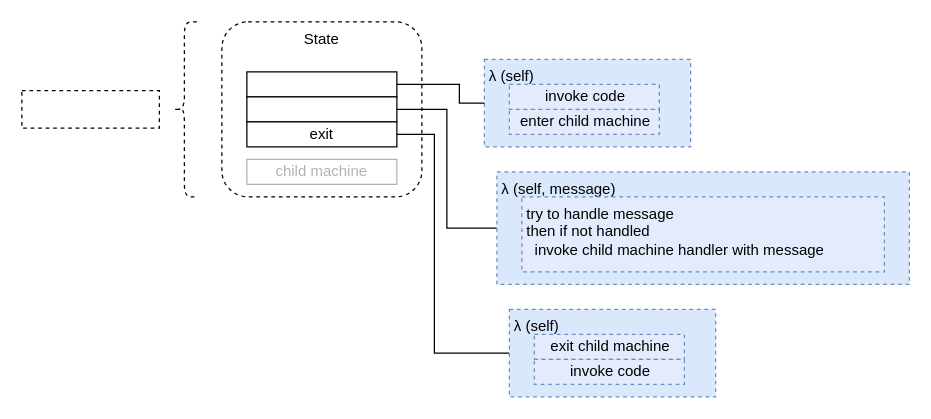
Some shapes in this 931 by 419 pixel diagram are drawn without their labels. The shapes that lost their labels are listed below. From the top down, each one's centre as x and y in pixels, then its label:
pixel 321 84: entry
pixel 90 108: control flow
pixel 321 109: handler
